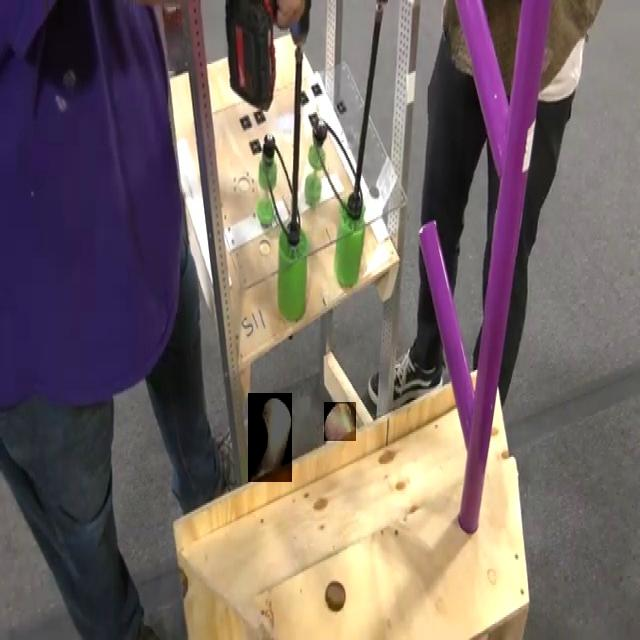Coral: (248, 393, 292, 482), (324, 402, 356, 441)
